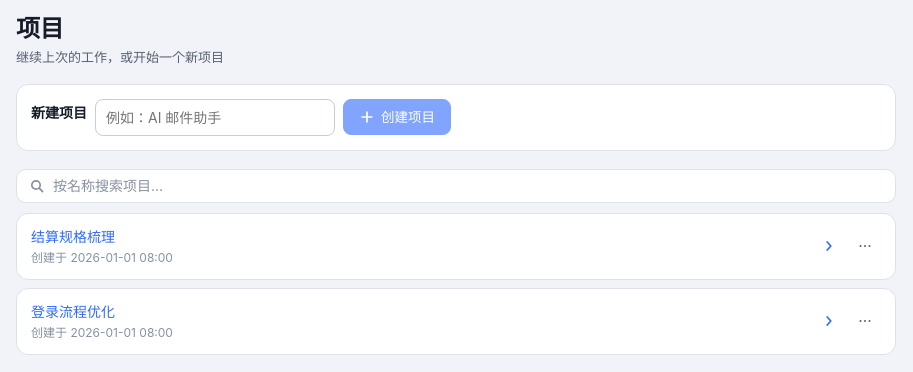
ProjectsView › reports the match count while a search is active
This screenshot has width=913, height=372.
In the field with test id "project-search": (454, 186) [53,168,855,202], type "流程"
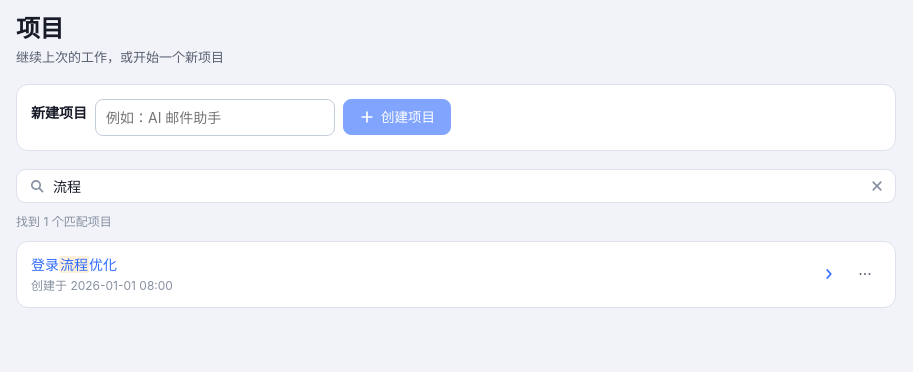
Expected: the text with test id "project-search-count" shows "1", [16,214,112,228]
